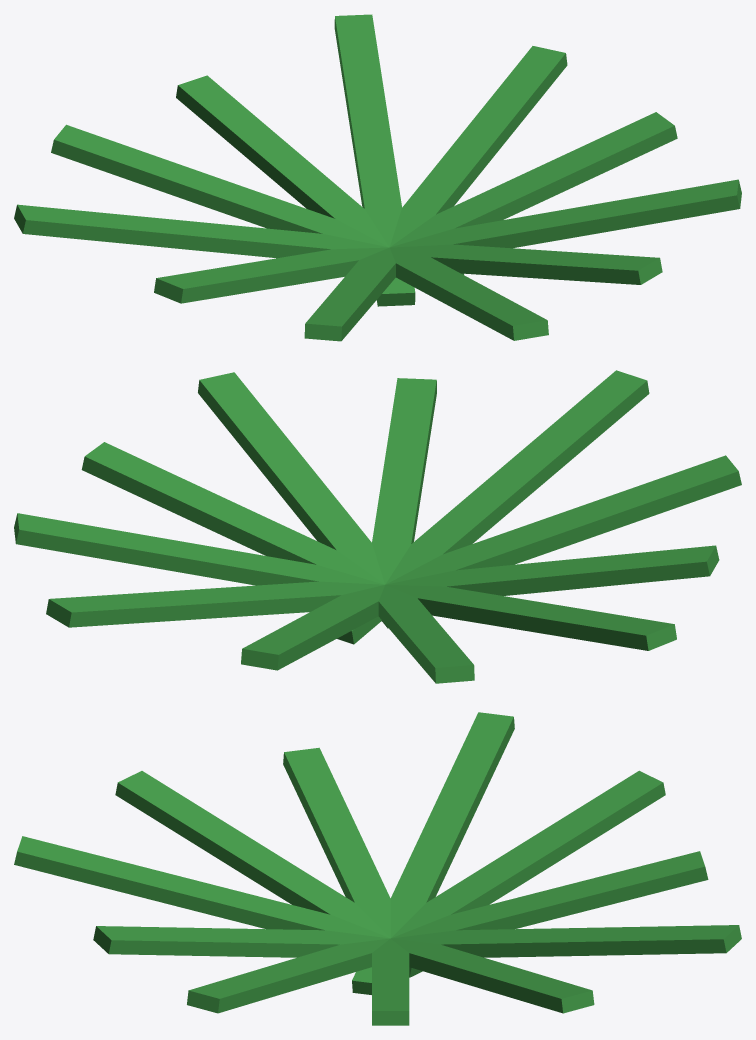
The model's file is SM_FernCluster_A.glb.
The picture shows the model from 3 angles, top to bottom: view 1: azimuth 30°, elevation 25°; view 2: azimuth 150°, elevation 25°; view 3: azimuth 270°, elevation 25°; orthographic projection. The views are drawn at different scales.
Visible parts, largest first — view 1: SM_FernCluster_A; view 2: SM_FernCluster_A; view 3: SM_FernCluster_A.
Boxes of the visible parts, box(x1,y1,x2,y2) form: SM_FernCluster_A: box(14, 14, 741, 341); SM_FernCluster_A: box(14, 370, 741, 683); SM_FernCluster_A: box(14, 712, 741, 1025).
Bounding box in the file's own units: 2.03 × 0.3268 × 2.16.
